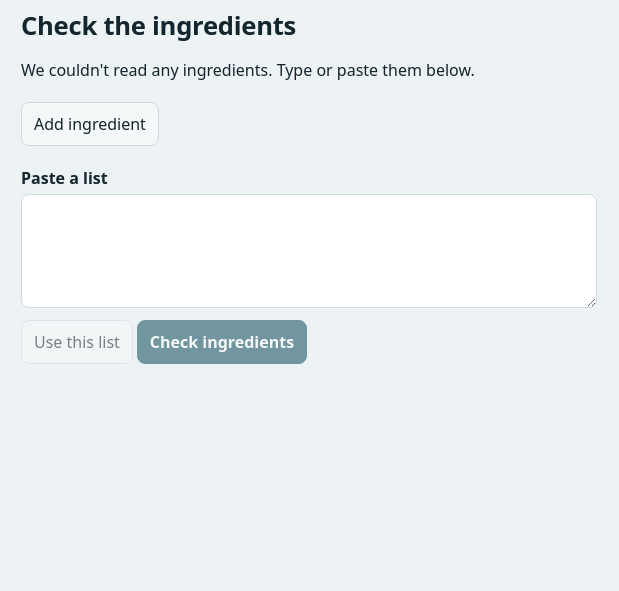
Test case: review: a pasted description becomes the names it mentions, with a partial-check notice
Click the text box labelled "Paste a list". click: [309, 251]
box: [21,194,597,308]
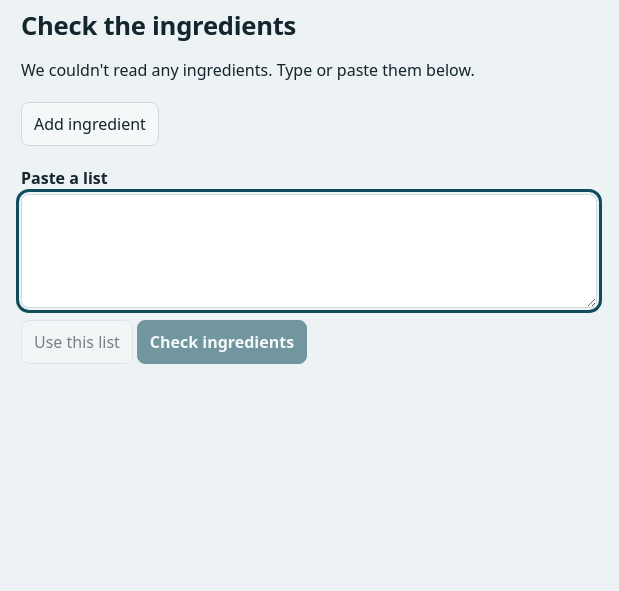
Type keys "Our cream is enriched with Formaldehyde and Glycerin to help your skin, while we keep it light and fresh for you."
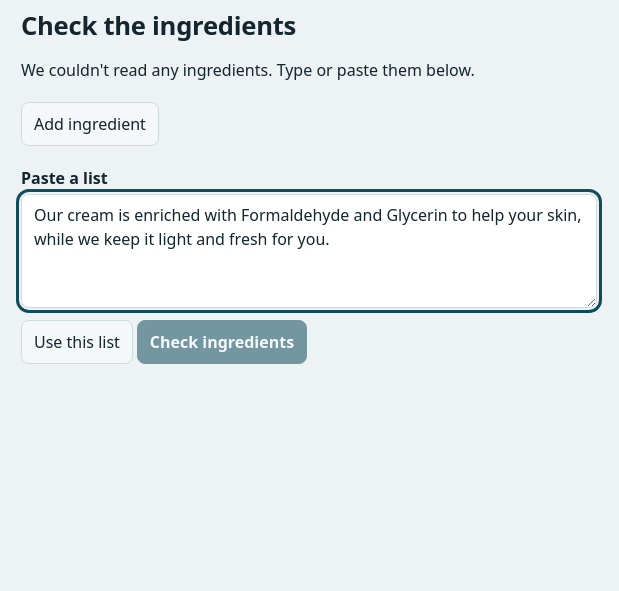
Click the button "Use this list". click: [77, 342]
box: [21,320,133,364]
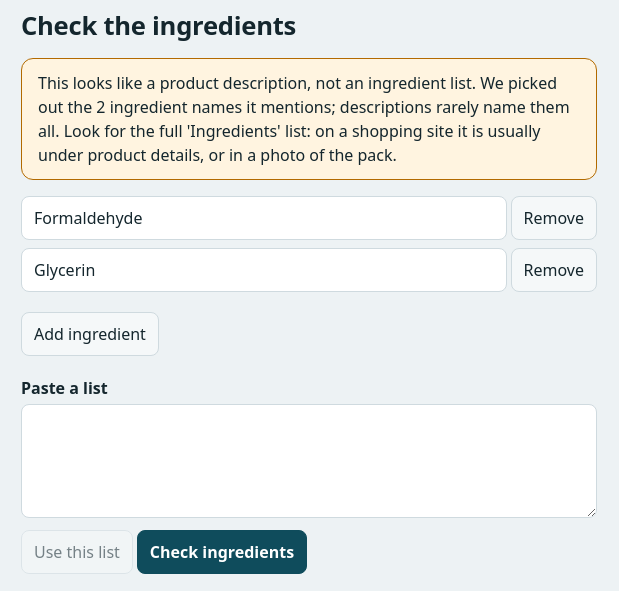
Expected: the 1st field named "Ingredient 1" holds "Formaldehyde", [21,196,506,240]
Expected: the 2nd field named "Ingredient 2" holds "Glycerin", [21,248,506,292]
Expected: the text "looks like a product description" is shown, [38,72,570,166]
